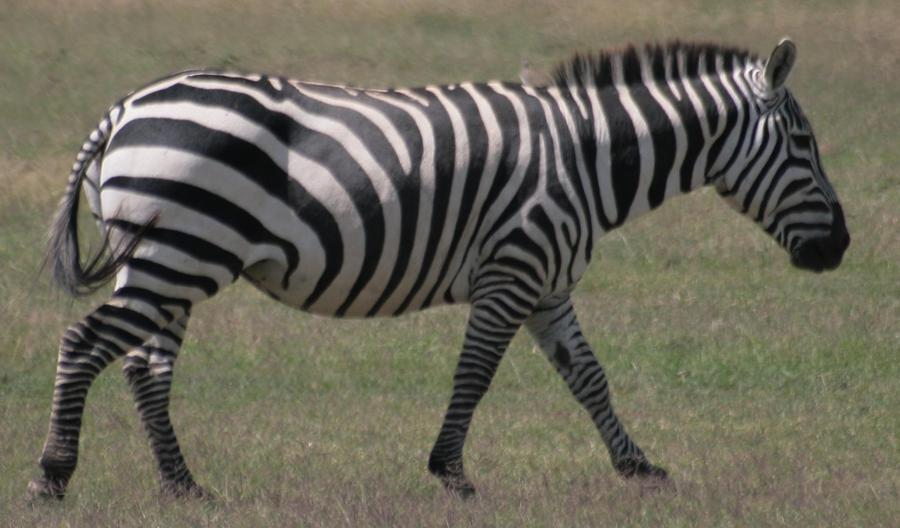zebra_plains: (89, 43, 604, 325)
